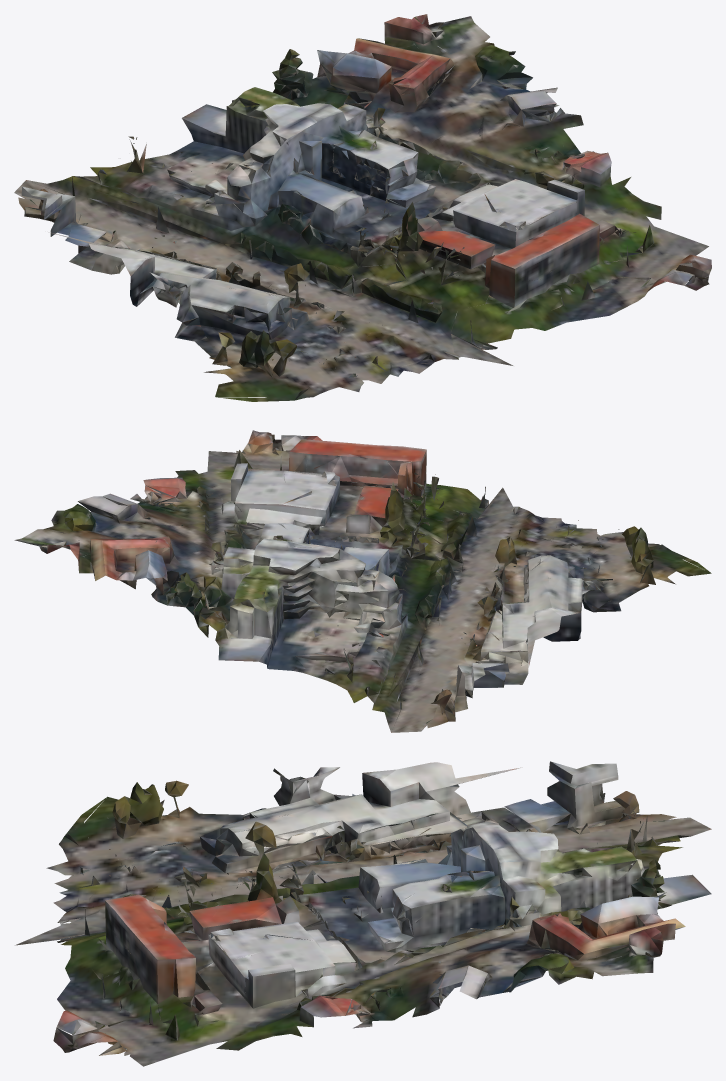
The model's file is Tile_013_003_L16.gltf.
3 views of the same model, one above another, from view 1: azimuth 30°, elevation 25°; view 2: azimuth 150°, elevation 25°; view 3: azimuth 270°, elevation 25° (orthographic). The views are drawn at different scales.
Parts seen in each view (by area): view 1: Tile_+013_+003_L16; view 2: Tile_+013_+003_L16; view 3: Tile_+013_+003_L16.
Boxes of the visible parts, x1=… form: Tile_+013_+003_L16: x1=14, y1=14, x2=711, y2=401; Tile_+013_+003_L16: x1=14, y1=430, x2=711, y2=732; Tile_+013_+003_L16: x1=14, y1=761, x2=711, y2=1066.
Bounding box in the file's own units: 234 × 45.62 × 241.
1 material, 1 textured.
